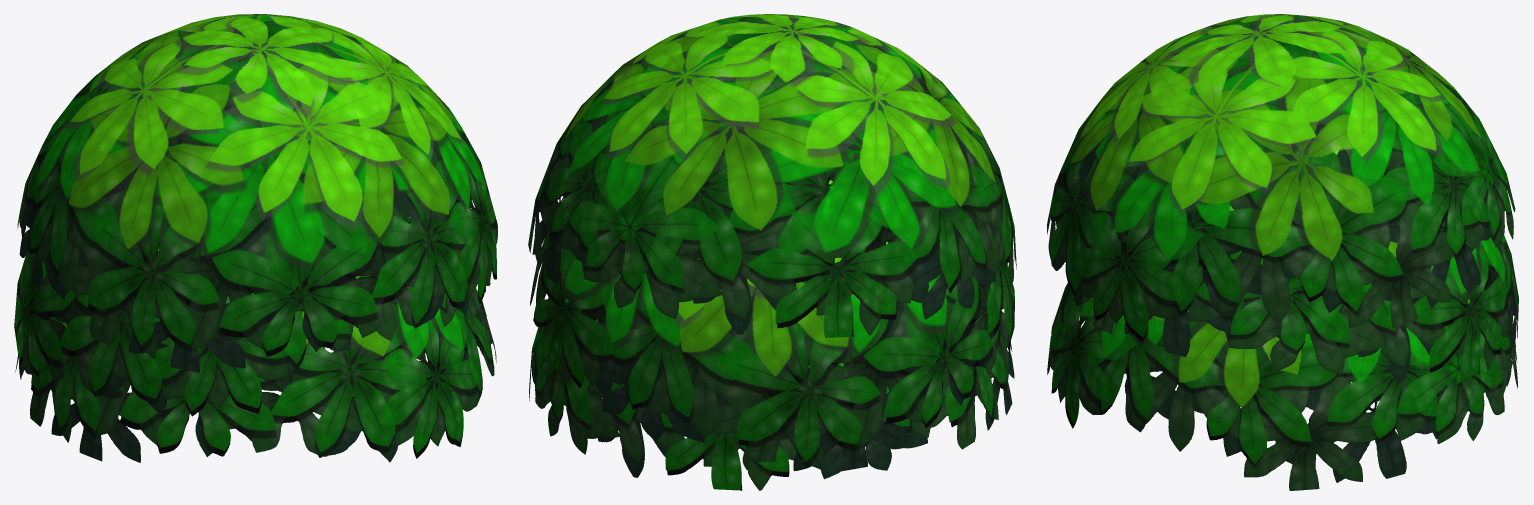
The model's file is Bush_Alexander_Vrij.fbx.
3 renders of one model, left to right at view 1: azimuth 30°, elevation 25°; view 2: azimuth 150°, elevation 25°; view 3: azimuth 270°, elevation 25°, orthographic. The views are drawn at different scales.
Parts seen in each view (by area): view 1: Sphere.002, Sphere.005, Sphere.001; view 2: Sphere.002, Sphere.001, Sphere.005; view 3: Sphere.002, Sphere.005, Sphere.001.
Boxes of the visible parts, x1=… form: Sphere.002: x1=17, y1=14, x2=497, y2=372; Sphere.005: x1=15, y1=288, x2=496, y2=462; Sphere.001: x1=14, y1=208, x2=492, y2=416; Sphere.002: x1=528, y1=14, x2=1016, y2=337; Sphere.001: x1=530, y1=180, x2=1014, y2=471; Sphere.005: x1=529, y1=297, x2=1014, y2=490; Sphere.002: x1=1046, y1=14, x2=1515, y2=342; Sphere.005: x1=1047, y1=279, x2=1517, y2=490; Sphere.001: x1=1072, y1=150, x2=1518, y2=382.
Bounding box in the file's own units: 200 × 165 × 200.
